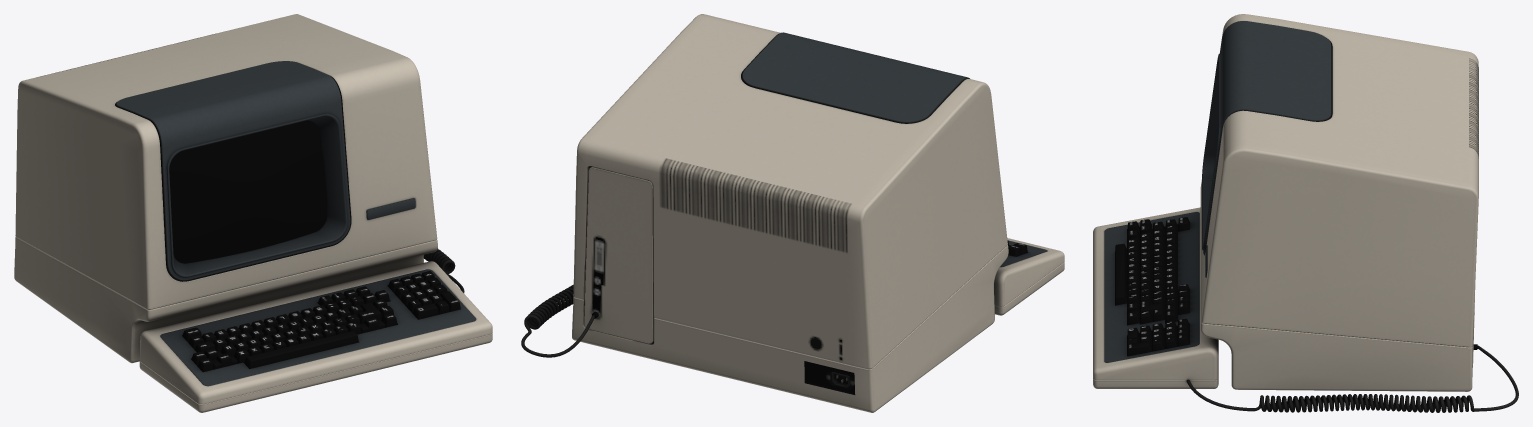
File: terminal.fbx
3 views of the same model, side by side, from view 1: azimuth 30°, elevation 25°; view 2: azimuth 150°, elevation 25°; view 3: azimuth 270°, elevation 25° (orthographic). The views are drawn at different scales.
Visible parts, largest first — view 1: RetroComputerTerminal; view 2: RetroComputerTerminal; view 3: RetroComputerTerminal.
Boxes of the visible parts, bbox=[...] form: RetroComputerTerminal: bbox=[14, 14, 492, 412]; RetroComputerTerminal: bbox=[521, 14, 1064, 412]; RetroComputerTerminal: bbox=[1093, 14, 1518, 412].
Bounding box in the file's own units: 5768 × 3839 × 6164.
